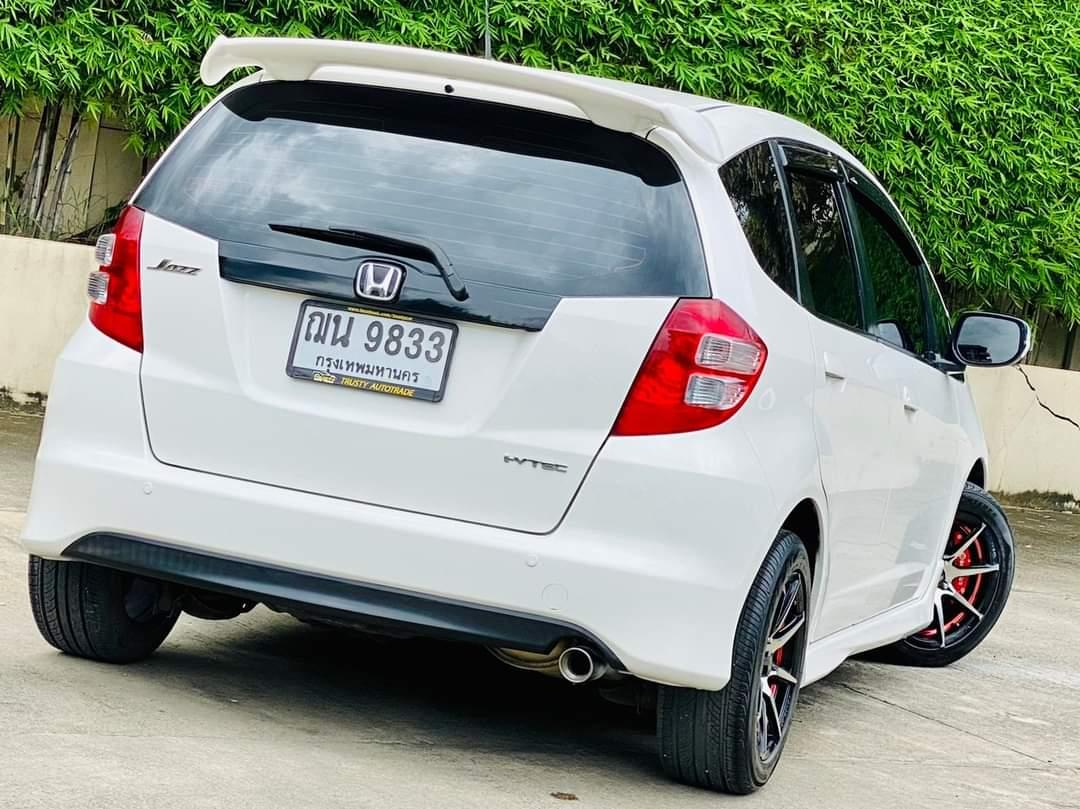license-plate: (283, 297, 461, 408)
